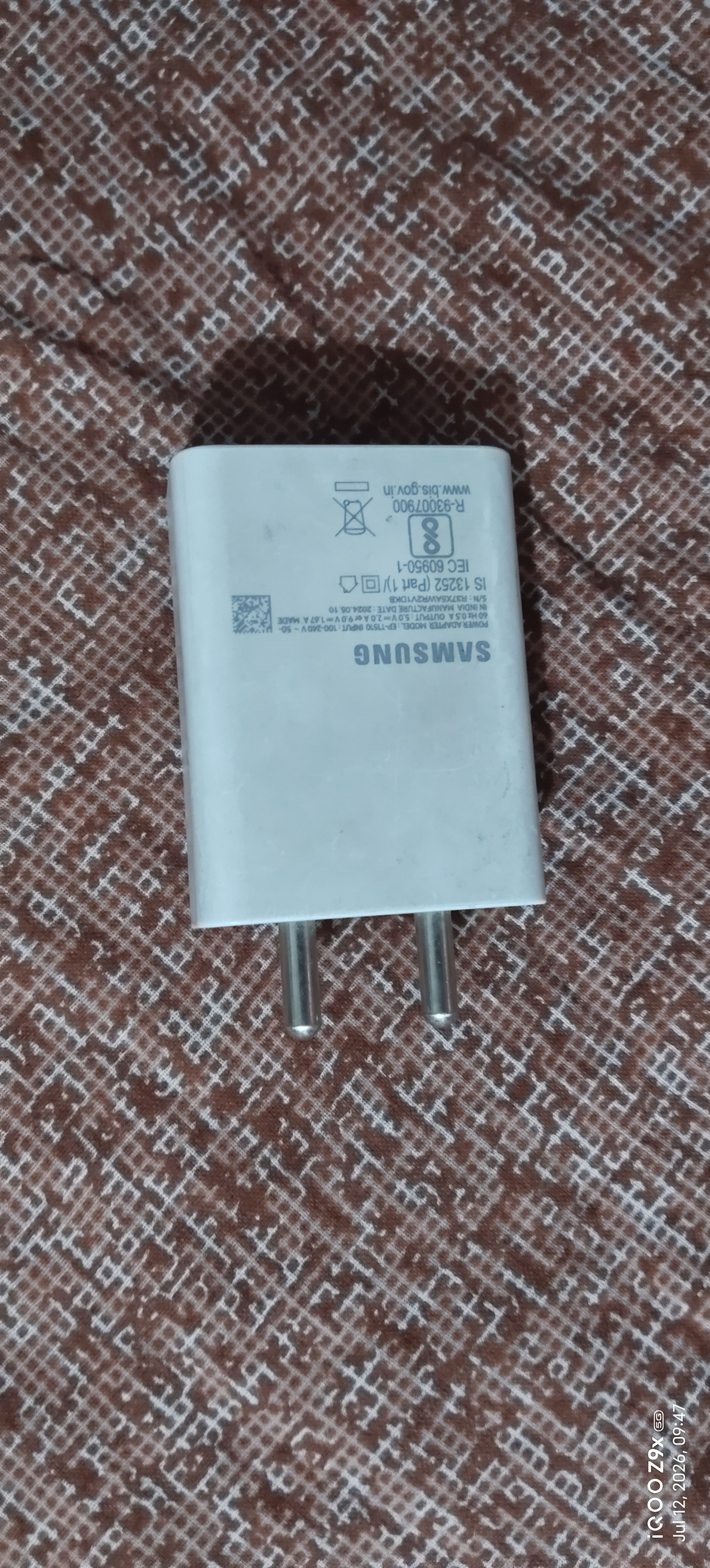charger: (125, 403, 588, 1067)
